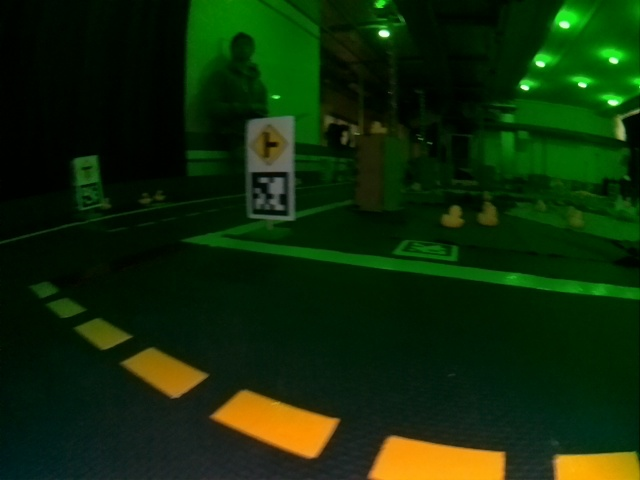Duckie: (442, 206, 463, 226), (479, 205, 498, 225), (138, 193, 151, 205), (157, 189, 165, 197)
Intersection sign: (248, 123, 289, 166), (77, 158, 97, 181)
QR code: (249, 171, 289, 218), (396, 241, 456, 260), (78, 183, 102, 208)
